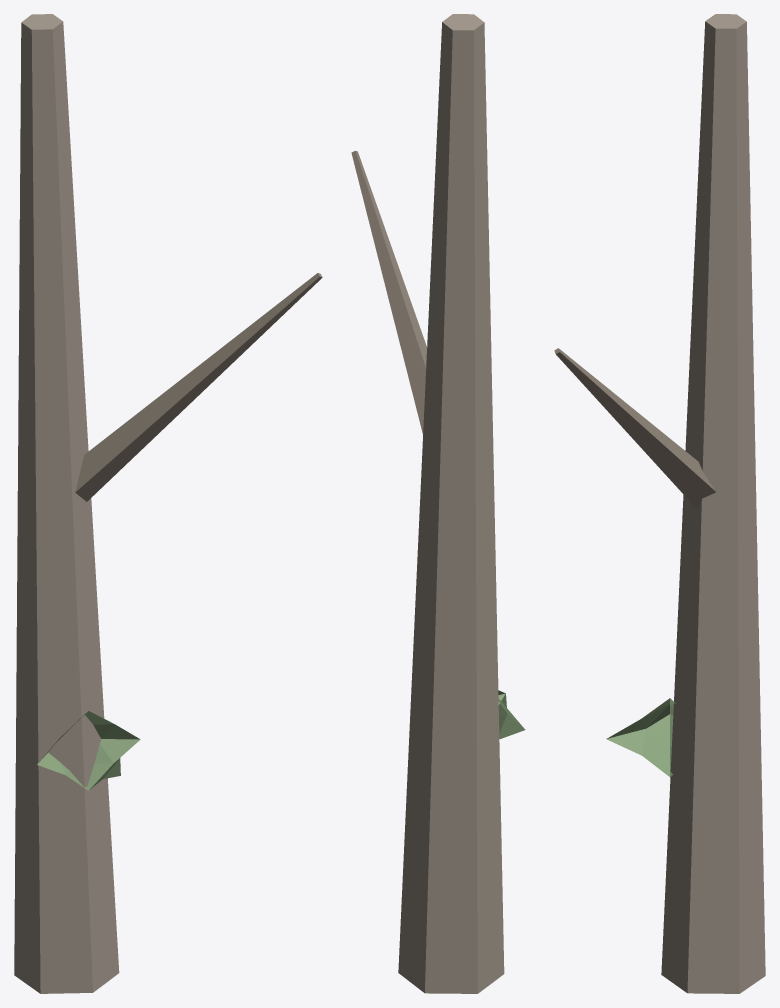
File: snag_v25.glb
3 views of the same model, side by side, from view 1: azimuth 30°, elevation 25°; view 2: azimuth 150°, elevation 25°; view 3: azimuth 270°, elevation 25° (orthographic).
Visible parts, largest first — view 1: lod0; view 2: lod0; view 3: lod0.
Part boxes in pixels (x1,y1,x2,y2): lod0: [14, 14, 322, 993]; lod0: [351, 14, 525, 993]; lod0: [554, 14, 765, 993].
Size of what is drawn, in the model's own units: 0.6022 by 2.4 by 0.4864.
